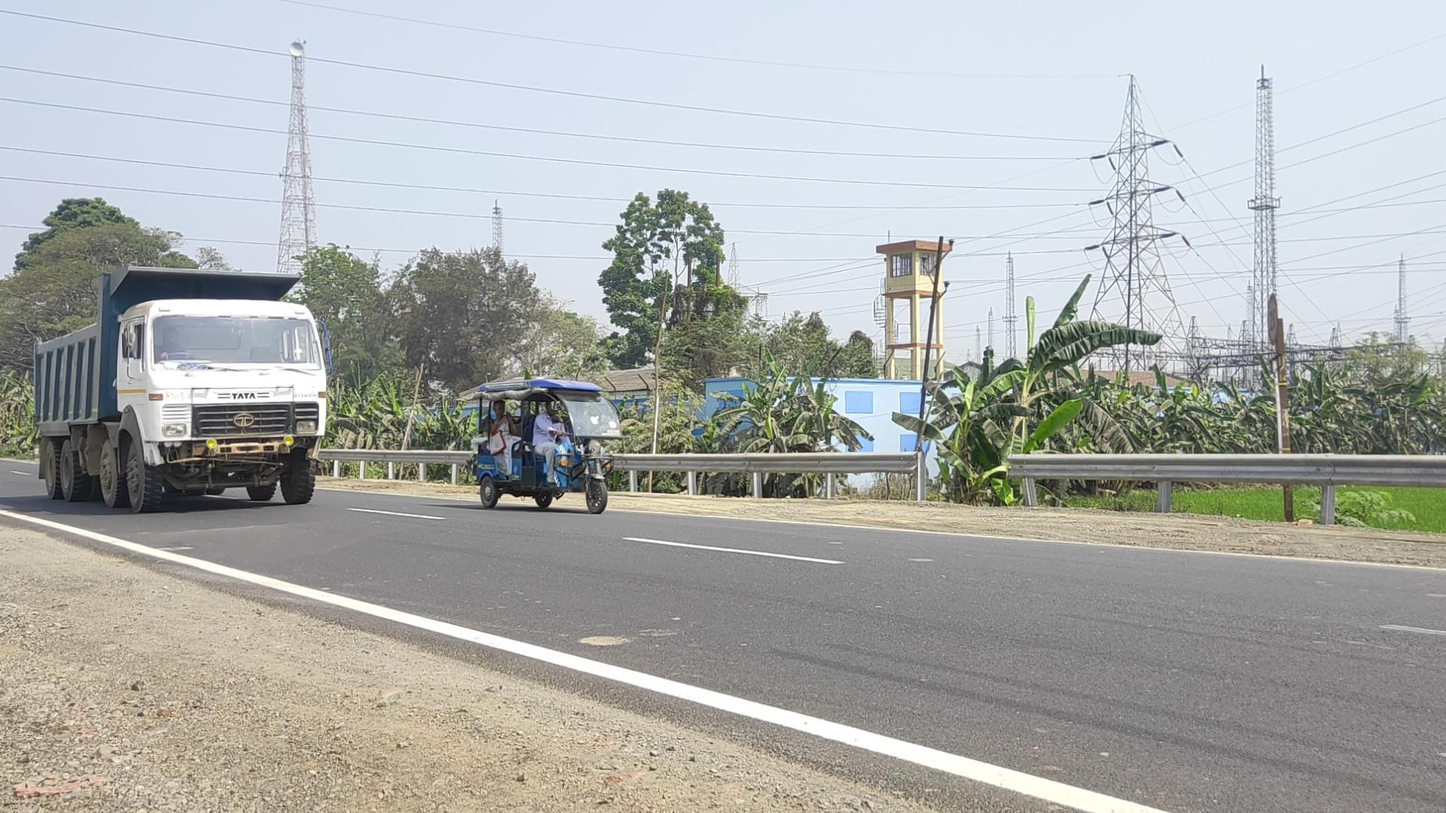Auto: (475, 379, 624, 515)
truck: (33, 266, 332, 515)
